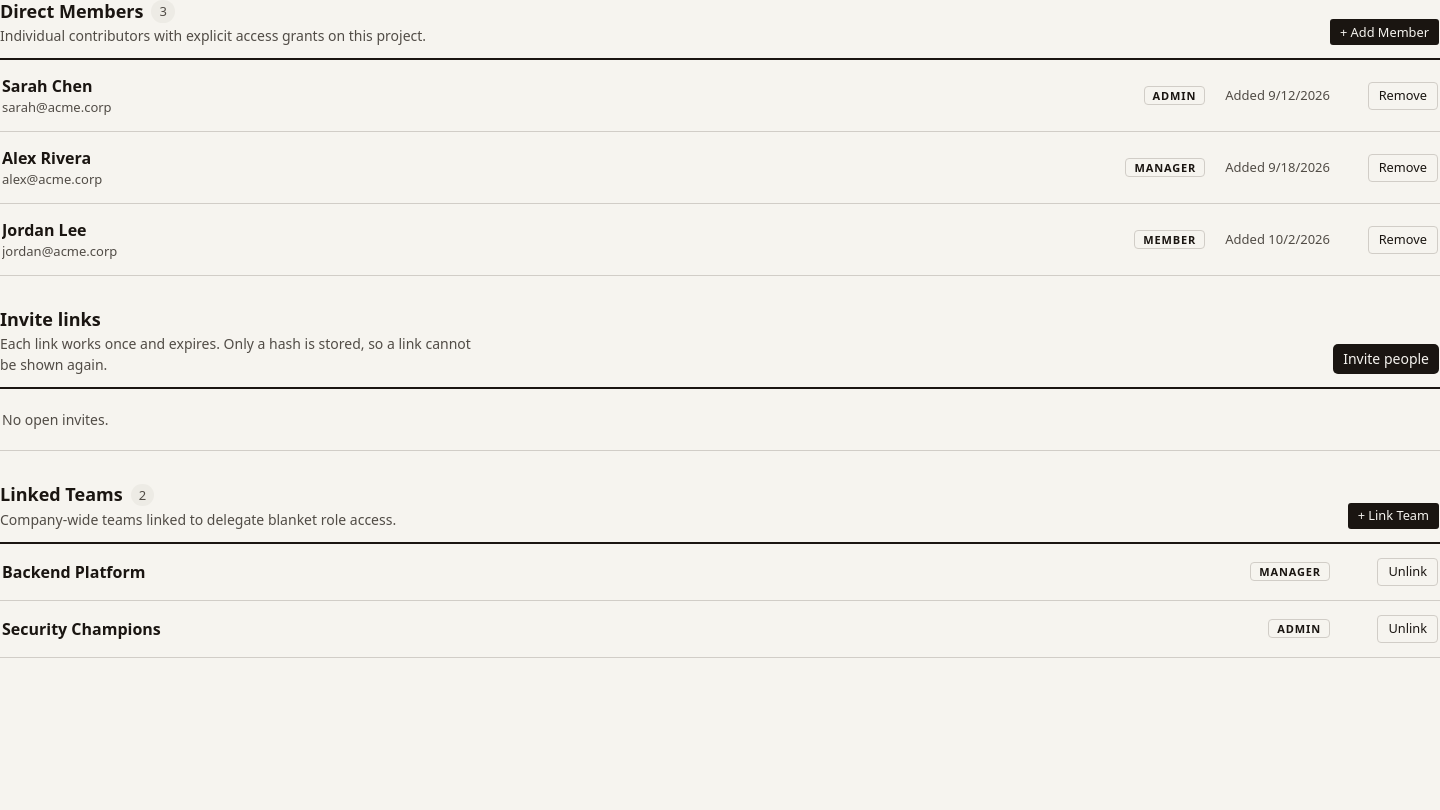
ProjectAccess › confirms an added member with a toast
Click the button "+ Add Member" at (1384, 32), box x1=1329 y1=18 x2=1439 y2=46
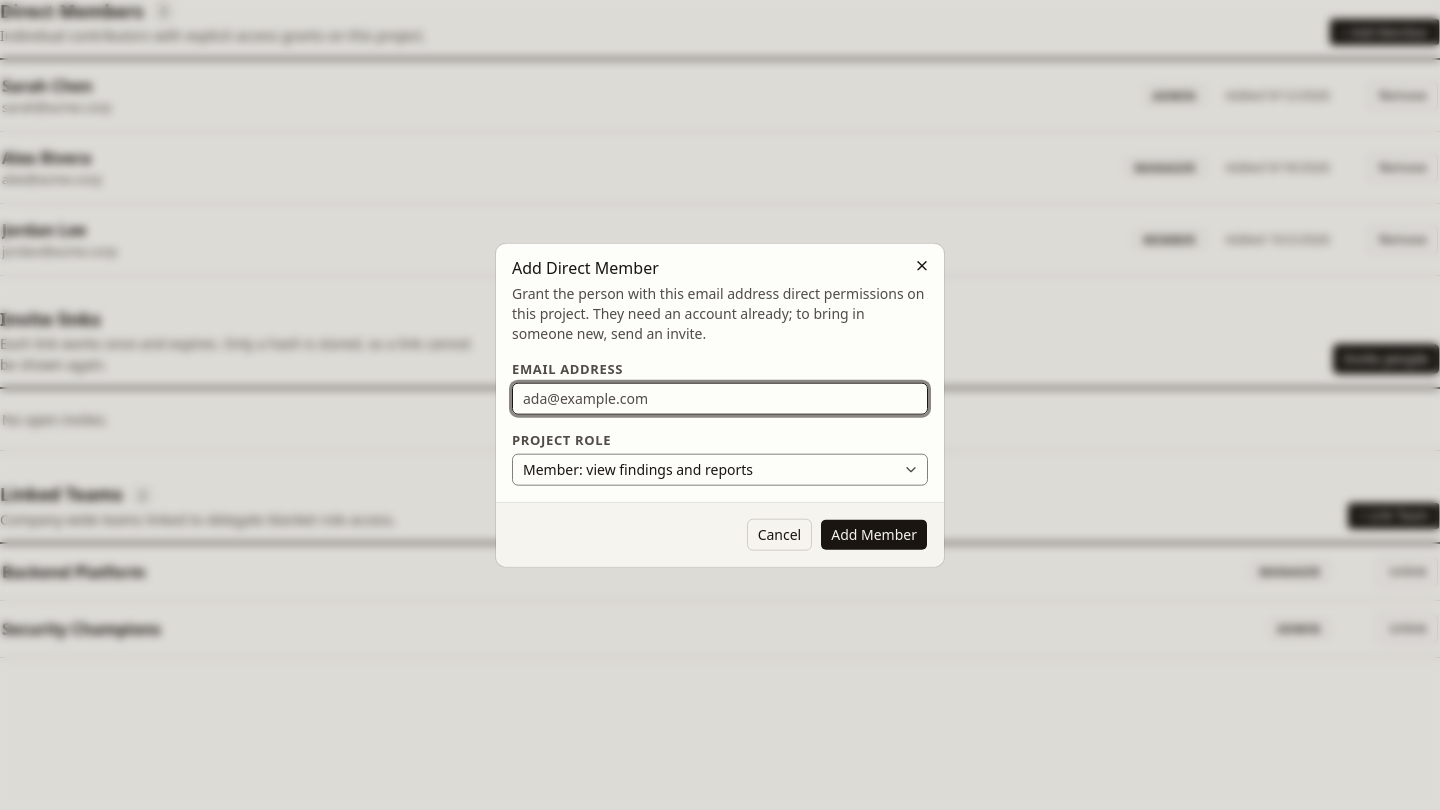
Type "ada@acme.example" into the dropdown labelled "Email address" at (720, 398), box x1=512 y1=382 x2=928 y2=414
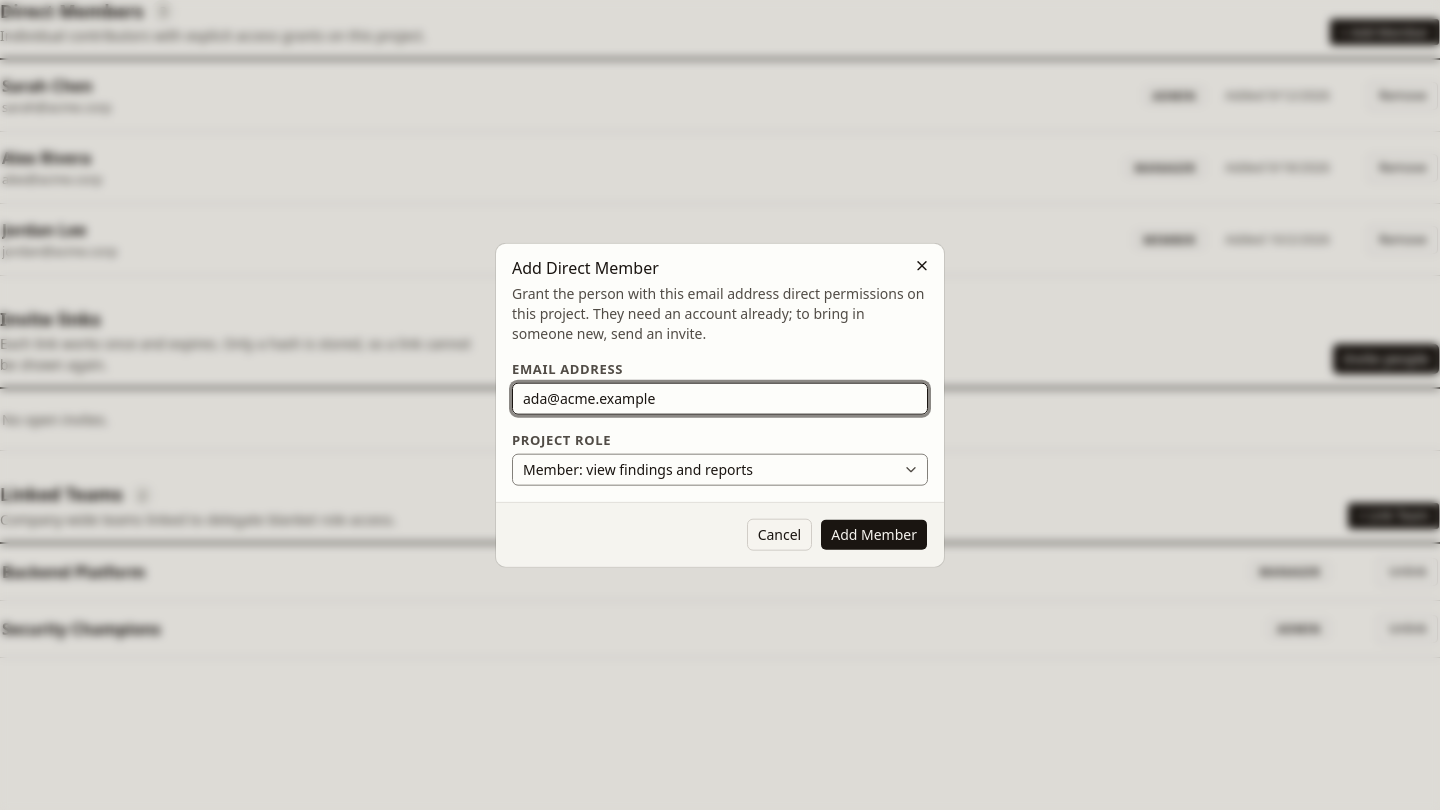
Click the button "Add Member" at (874, 534), box x1=820 y1=518 x2=928 y2=550
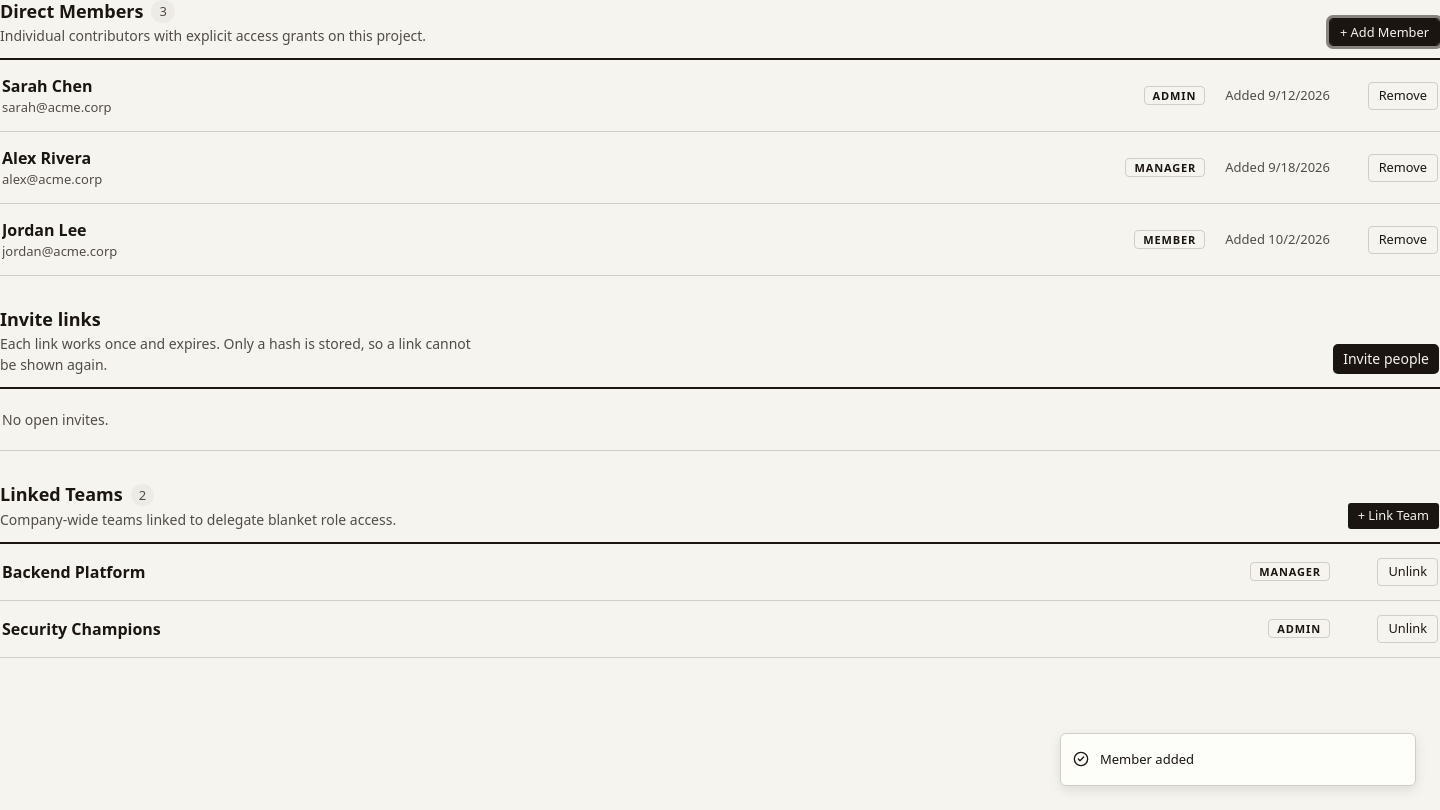
Expected: the text "Member added" is shown, x1=1100 y1=750 x2=1194 y2=769
